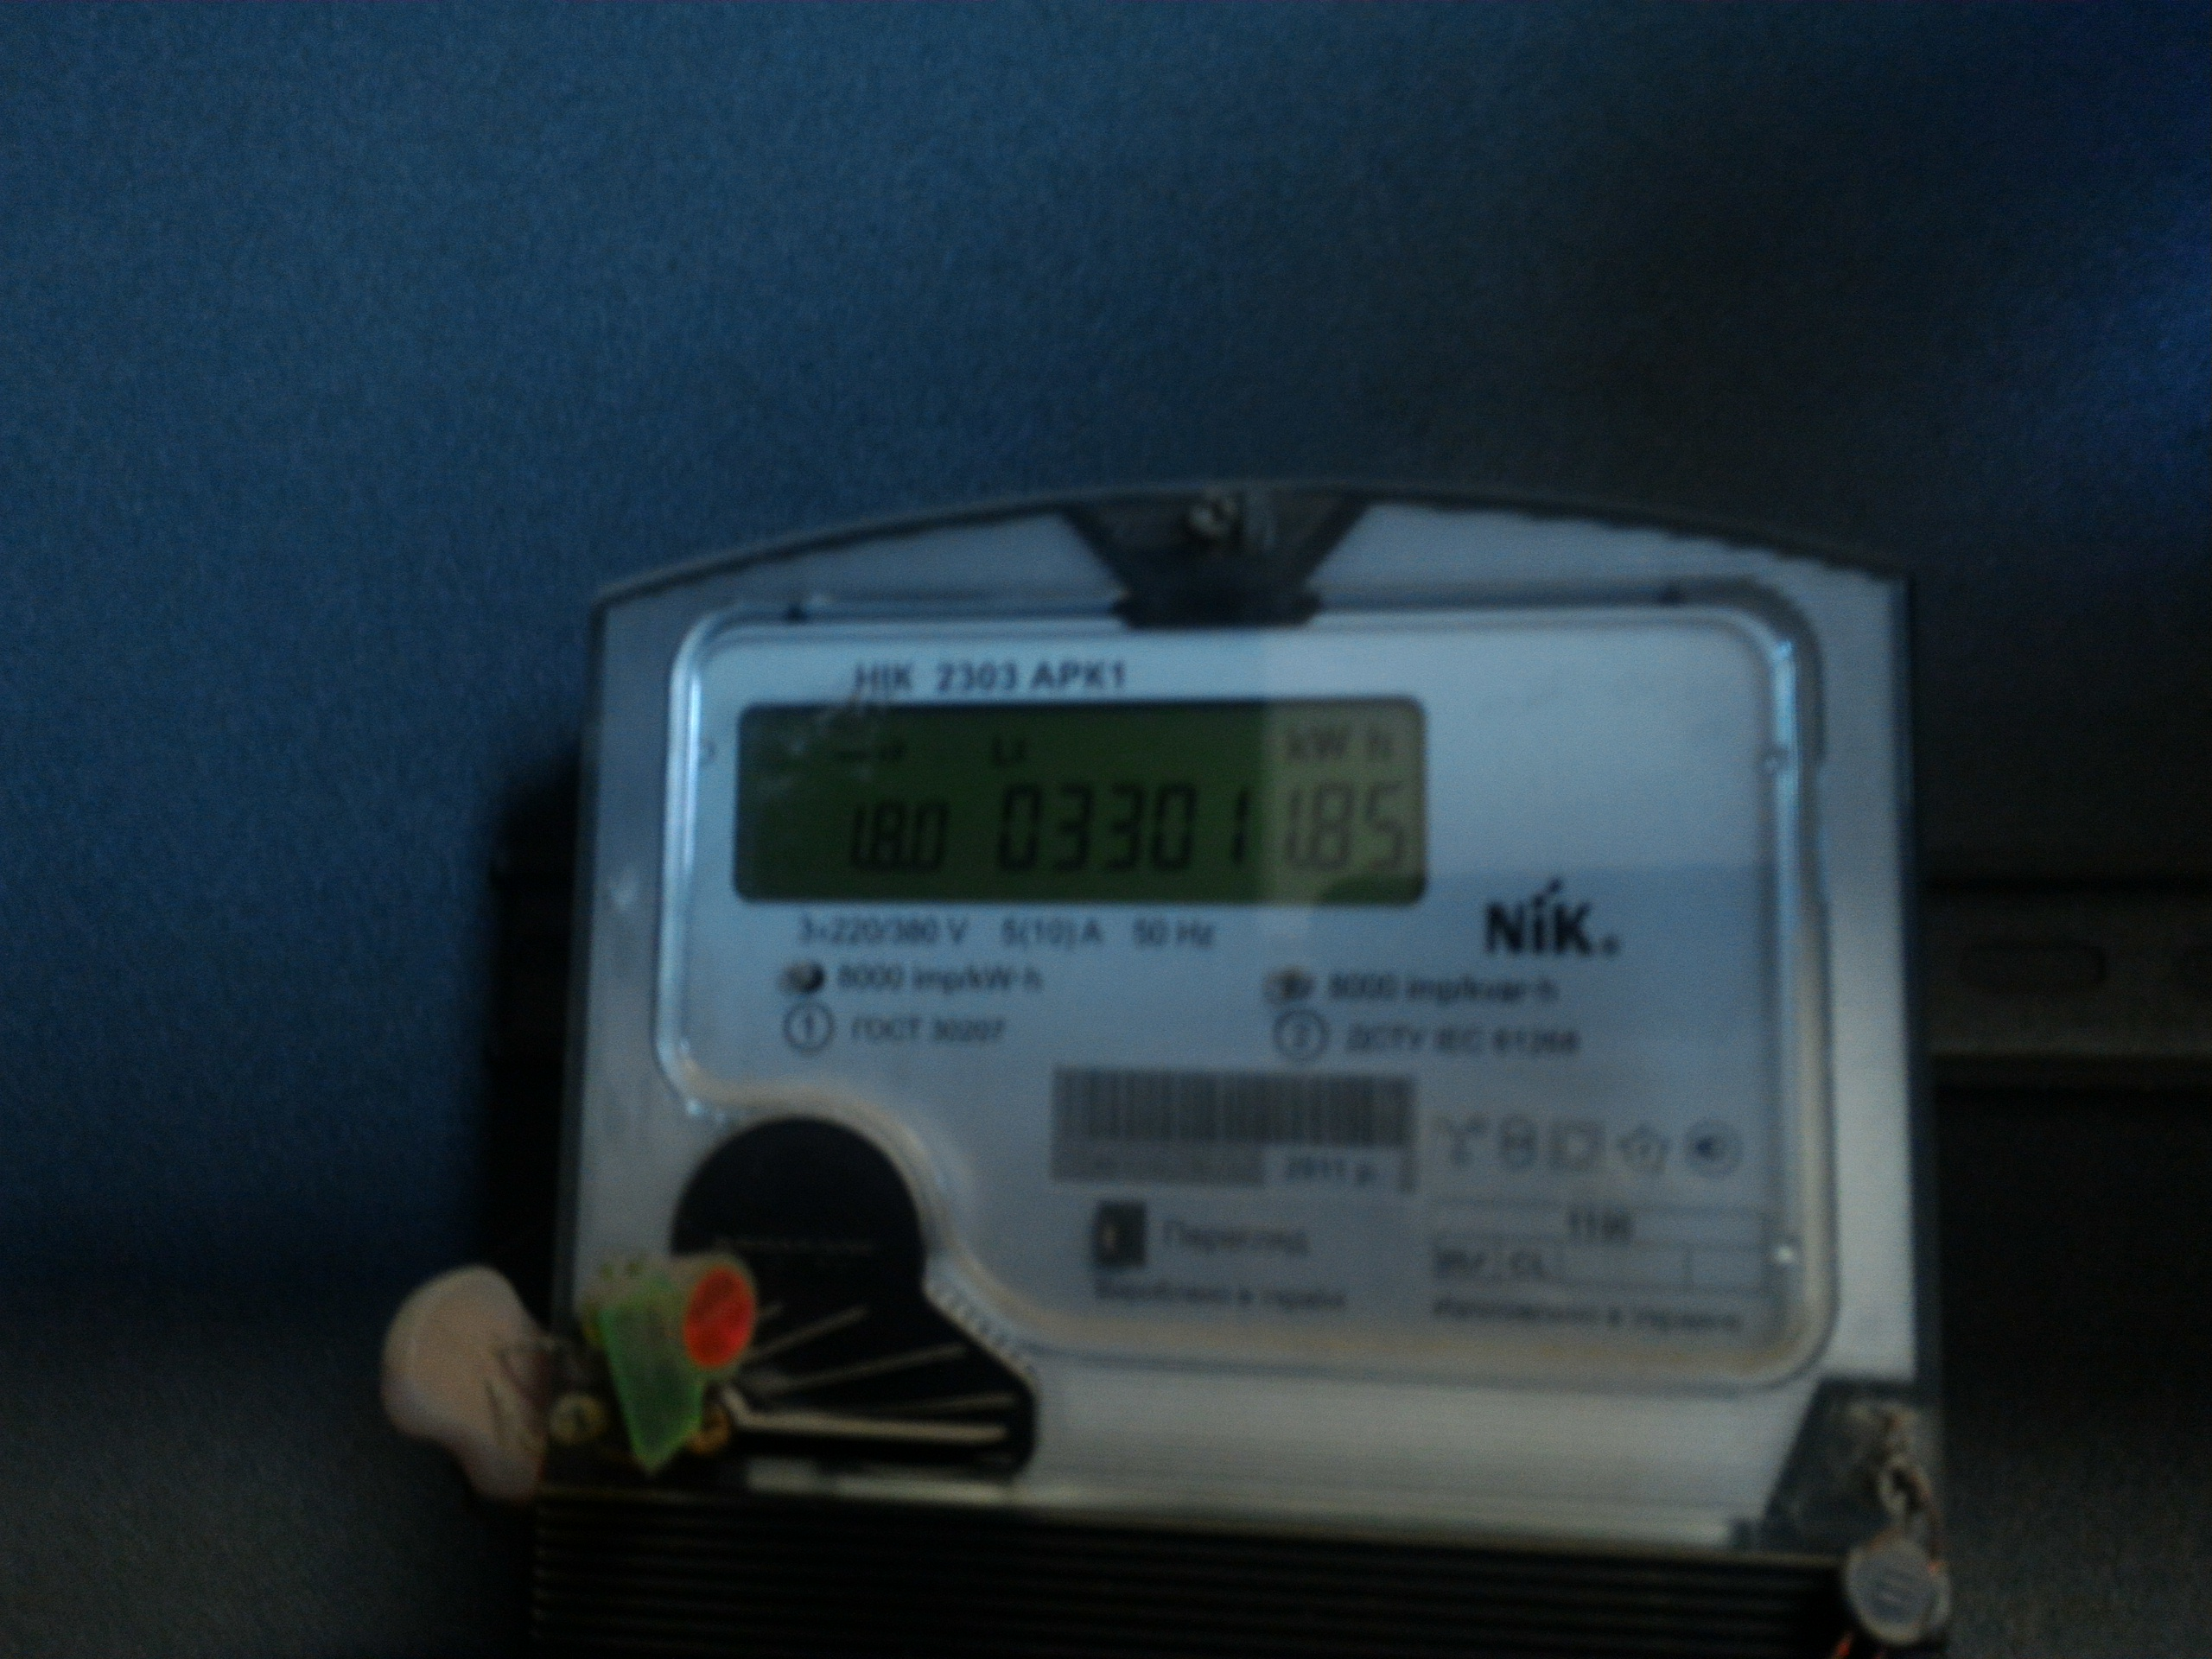screen: (702, 671, 1468, 934)
